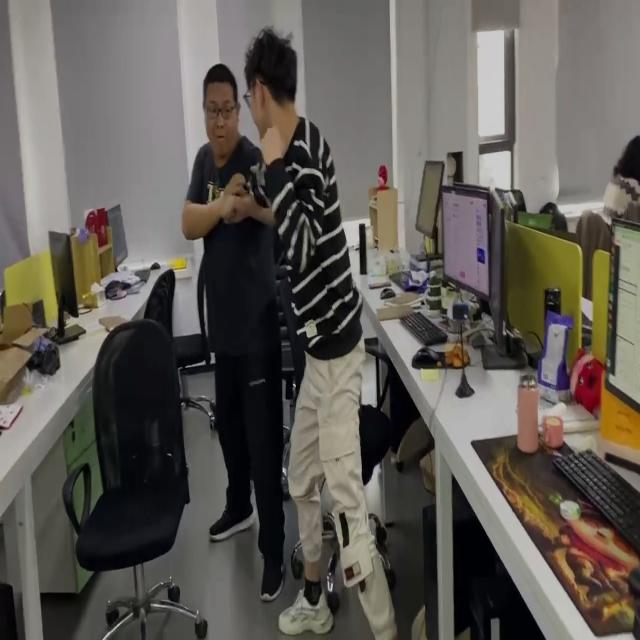fight: (178, 24, 408, 639)
